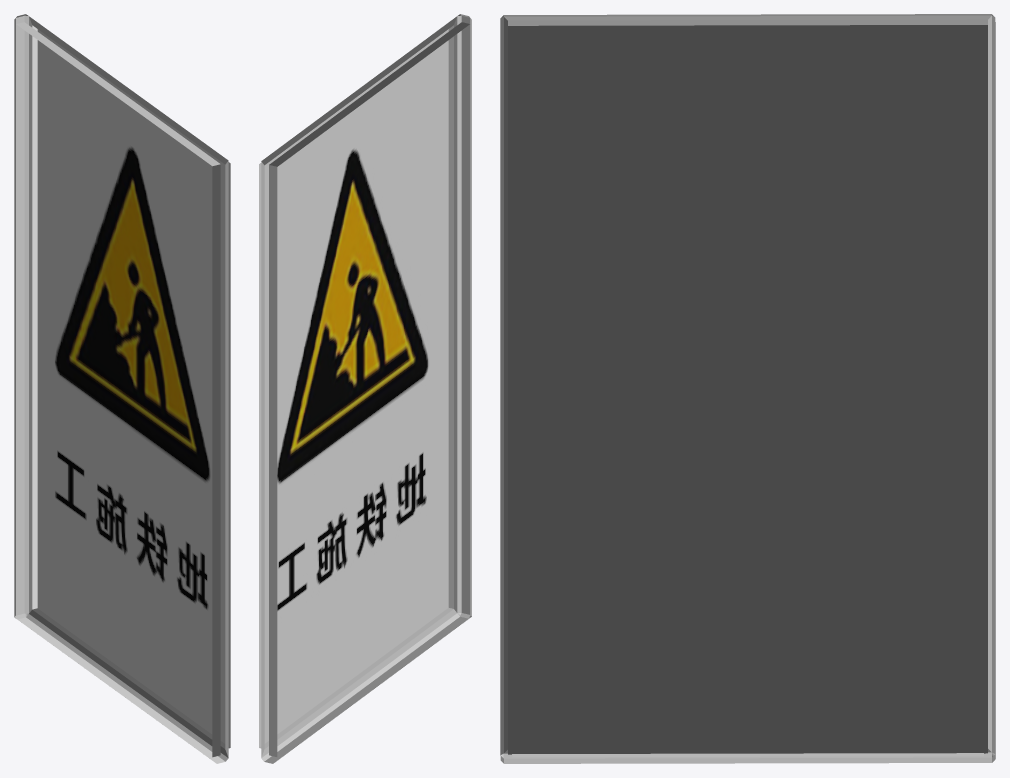
3 renders of one model, left to right at view 1: azimuth 30°, elevation 25°; view 2: azimuth 150°, elevation 25°; view 3: azimuth 270°, elevation 25°, orthographic. The views are drawn at different scales.
Visible parts, largest first — view 1: model18; view 2: model18; view 3: model18.
Boxes of the visible parts, x1,y1,x2,y2 form: model18: (14,14,230,763); model18: (259,14,471,763); model18: (500,14,995,763).
Bounding box in the file's own units: 0.0927 × 2.46 × 1.49.
Materials: 2 (1 with a texture image).
